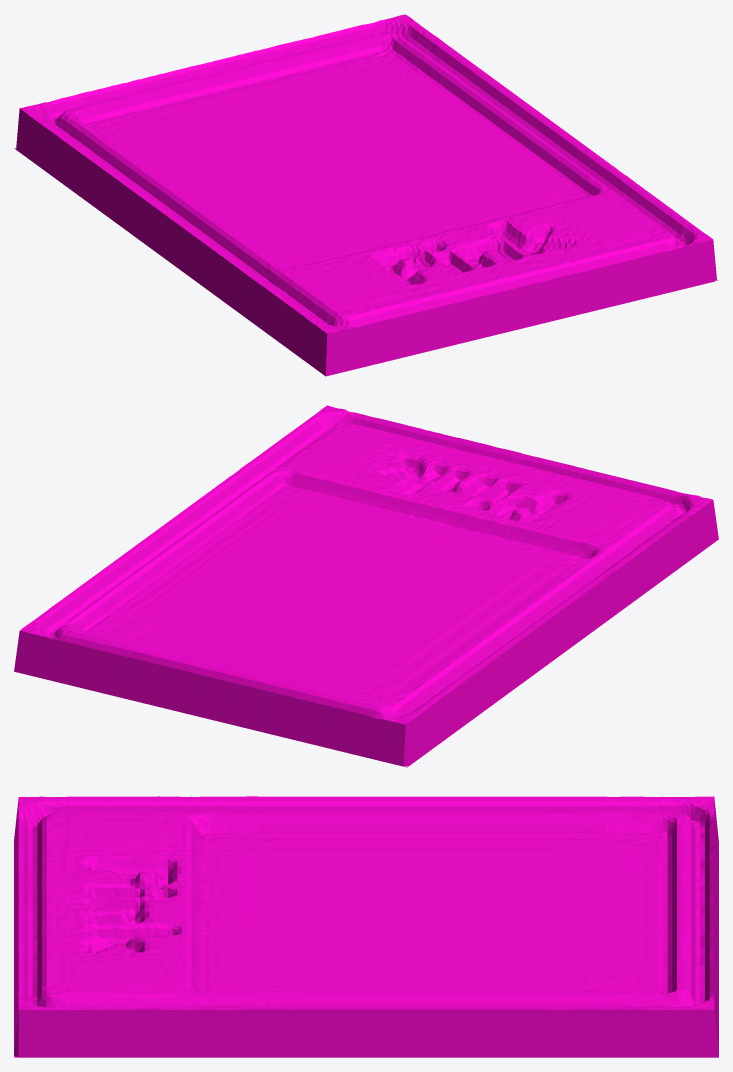
3 renders of one model, top to bottom at view 1: azimuth 30°, elevation 25°; view 2: azimuth 150°, elevation 25°; view 3: azimuth 270°, elevation 25°, orthographic. The views are drawn at different scales.
Visible parts, largest first — view 1: imagetostl_mesh0; view 2: imagetostl_mesh0; view 3: imagetostl_mesh0.
Boxes of the visible parts, x1=… form: imagetostl_mesh0: x1=14, y1=14, x2=718, y2=376; imagetostl_mesh0: x1=14, y1=405, x2=718, y2=767; imagetostl_mesh0: x1=14, y1=796, x2=718, y2=1057.
Size of the model in its own units: 2563 by 254 by 3520.
